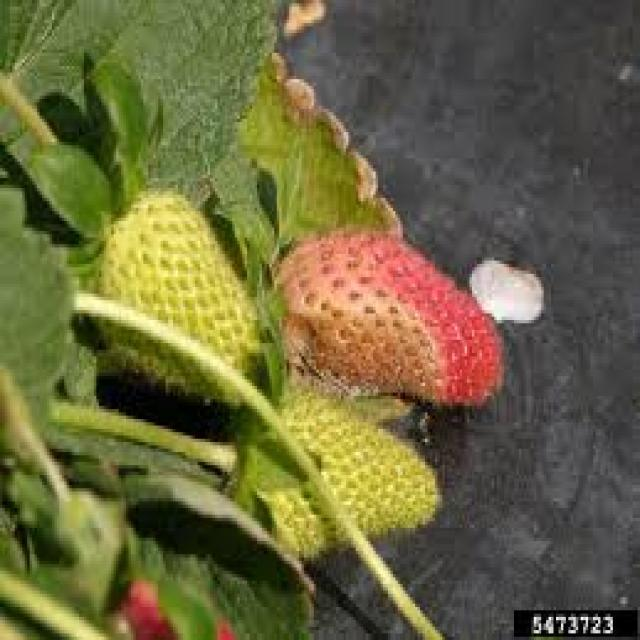Podredumbre de cuero: (270, 222, 520, 422)
